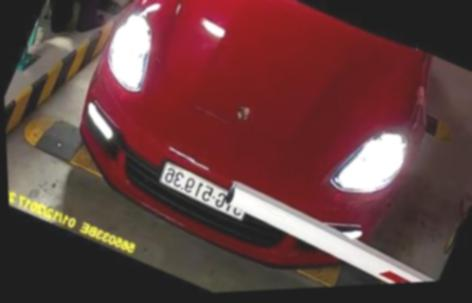License_Plate: (161, 160, 245, 226)
